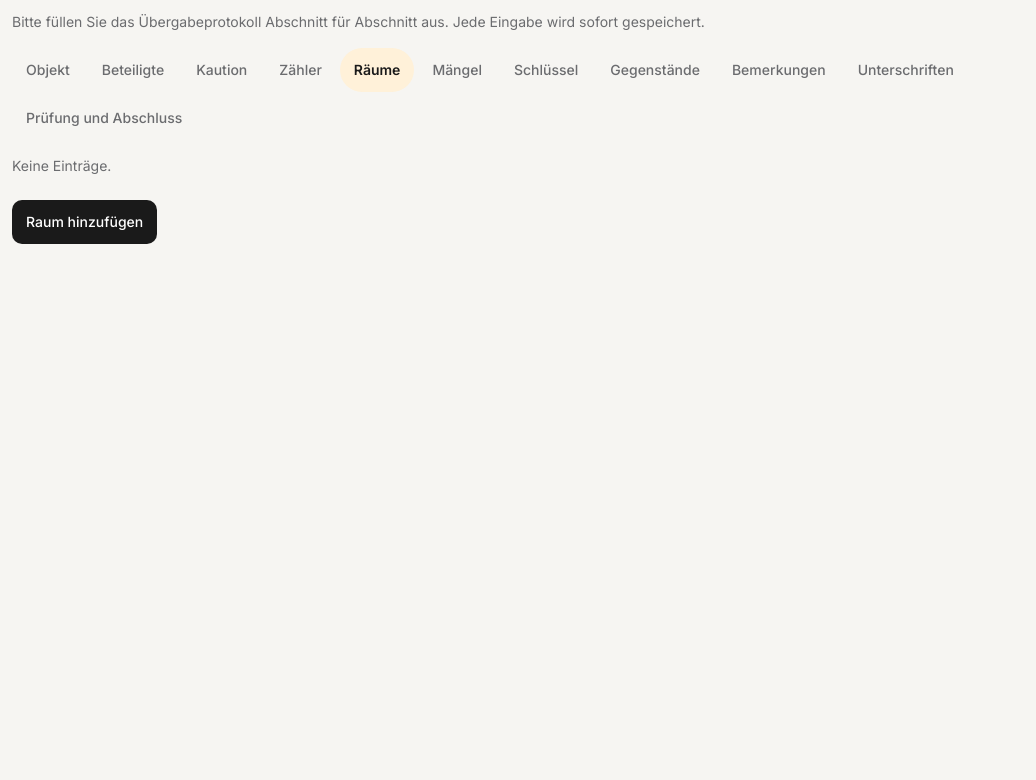
Test: HandoverFill › adds a room through the portal BFF and reloads
expect the text "Keine Einträge." is shown: met, box x1=12 y1=157 x2=111 y2=174
Click the button "Raum hinzufügen": click(85, 222) x1=12 y1=200 x2=157 y2=244
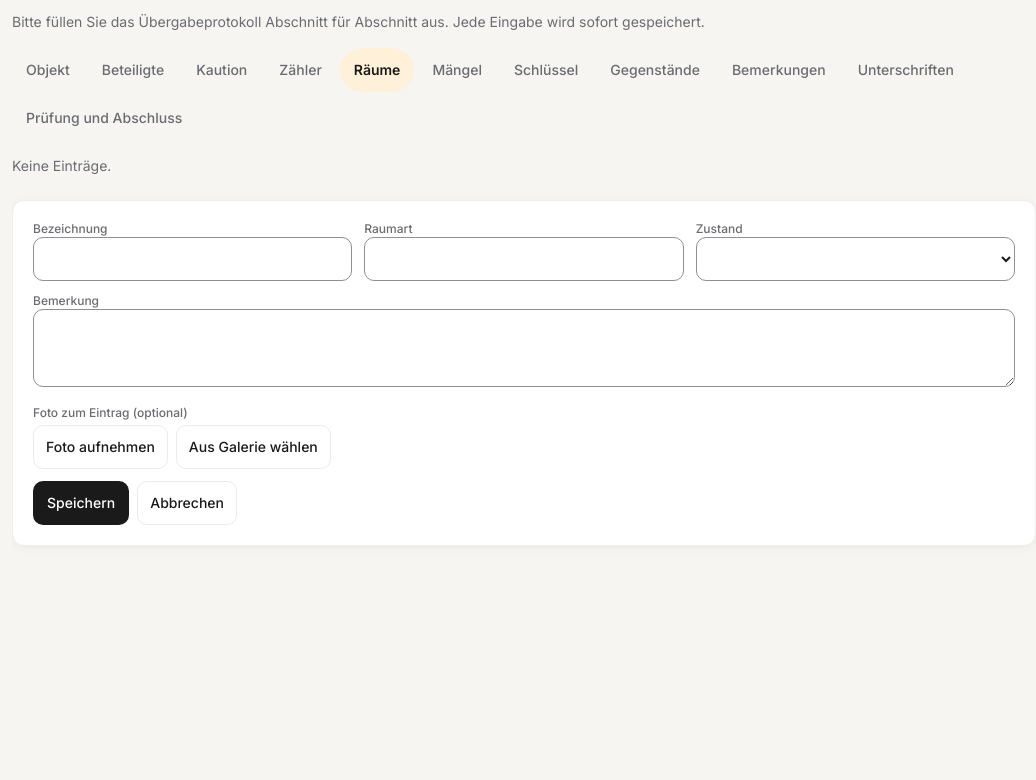
In the field labelled "Bezeichnung": (193, 259) x1=33 y1=237 x2=352 y2=281, type "Küche"
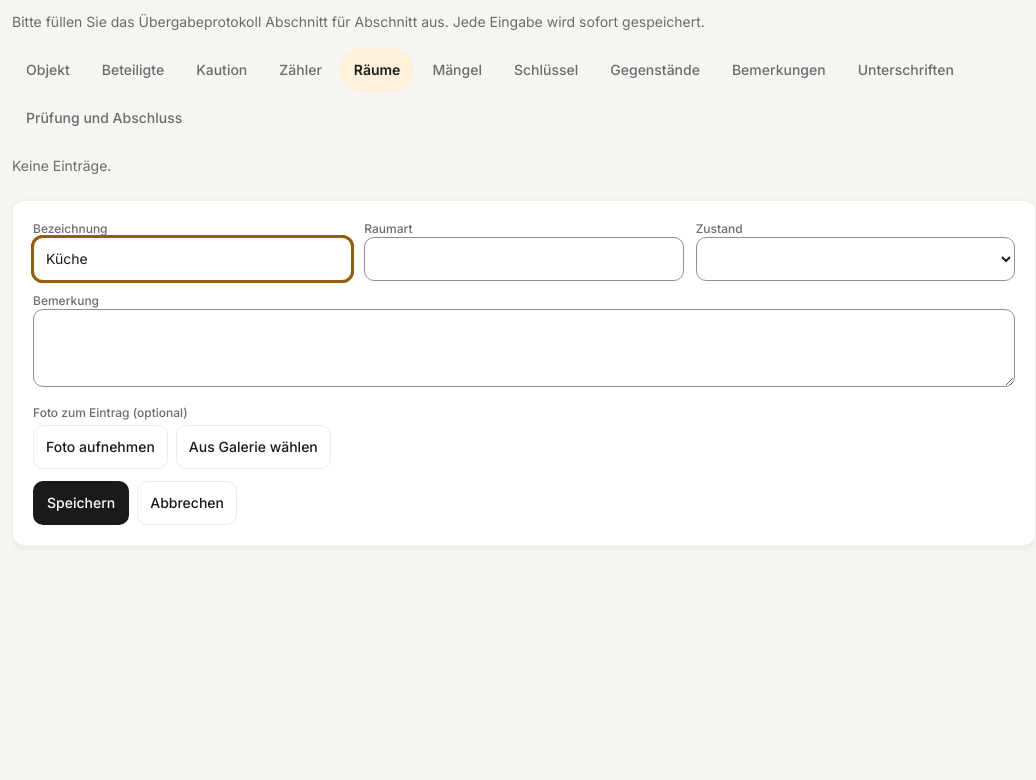
Click the button "Speichern": click(81, 503) x1=33 y1=481 x2=129 y2=525
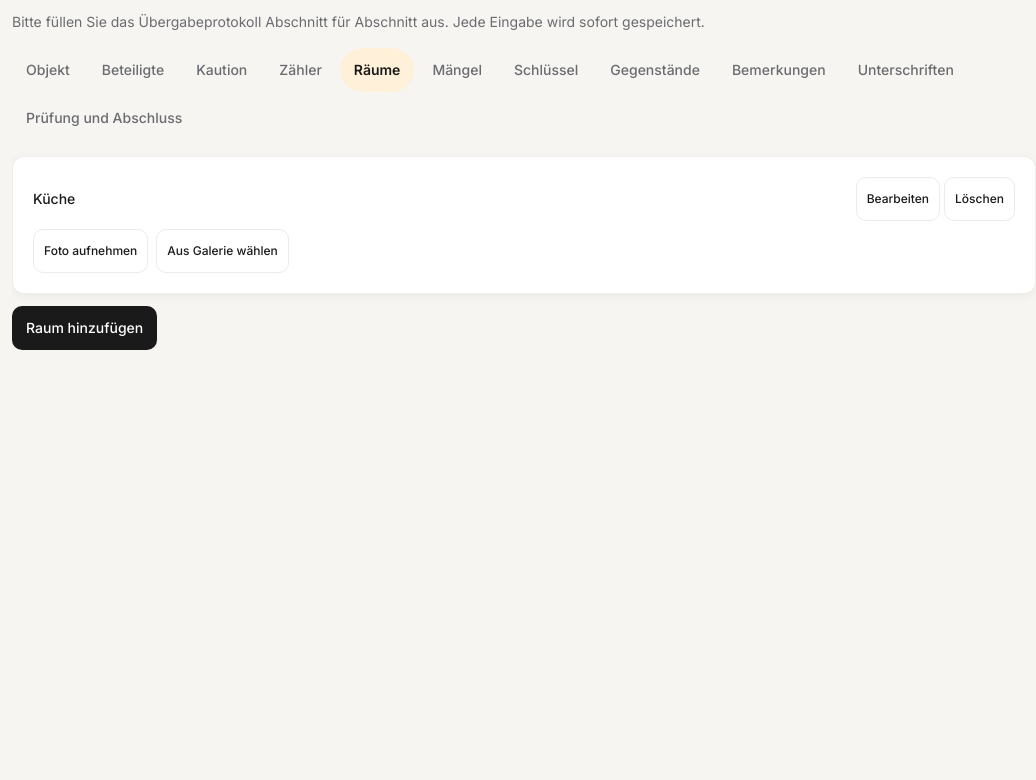
expect the text "Küche" is shown: met, box x1=33 y1=189 x2=75 y2=209
